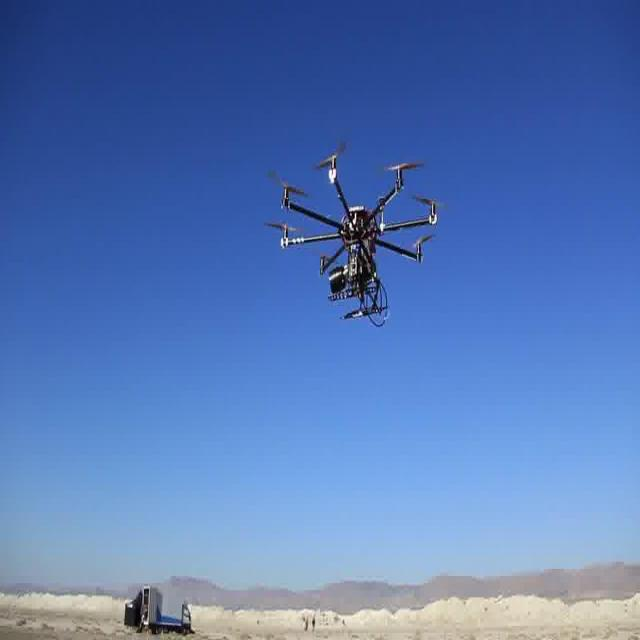drone: (269, 134, 441, 327)
